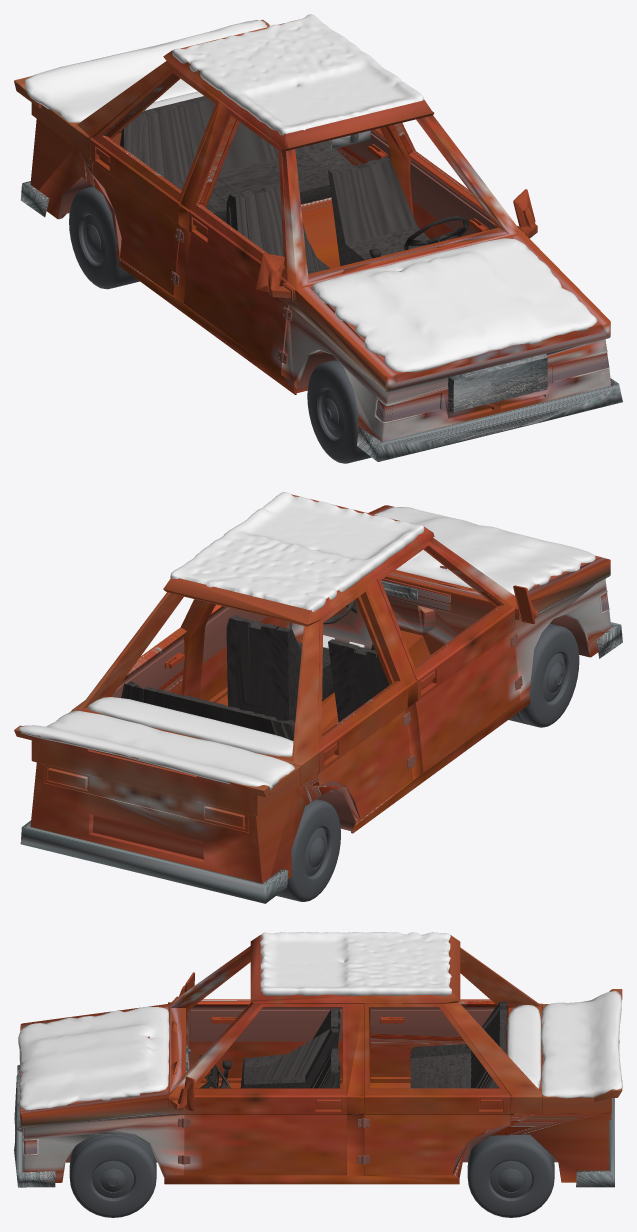
The model's file is car.fbx.
The picture shows the model from 3 angles, top to bottom: view 1: azimuth 30°, elevation 25°; view 2: azimuth 150°, elevation 25°; view 3: azimuth 270°, elevation 25°; orthographic projection. The views are drawn at different scales.
Parts seen in each view (by area): view 1: Body, SnowBall.003, Seats, SnowBall.001, Door RF, Door RB, SnowBall.004, bumper Front, Door LF, wheels Front, wheels rear, Radiator screen (+5 smaller); view 2: Body, SnowBall.001, Seats, Door RF, trunk lid, Door RB, SnowBall.004, SnowBall.003, bumper Rear, SnowBall.005, wheels Front, wheels rear (+3 smaller); view 3: Body, Door LF, SnowBall.003, Door LB, SnowBall.001, Seats, SnowBall.004, Door RF, wheels Front, wheels rear, Door RB, SnowBall.005 (+3 smaller).
Part boxes in pixels (left/top/right/bottom): Body: left=30, top=20, right=611, bottom=441; SnowBall.003: left=312, top=238, right=597, bottom=372; Seats: left=120, top=96, right=429, bottom=273; SnowBall.001: left=172, top=14, right=423, bottom=135; Door RF: left=183, top=110, right=292, bottom=374; Door RB: left=91, top=68, right=219, bottom=295; SnowBall.004: left=24, top=20, right=267, bottom=122; bumper Front: left=357, top=378, right=622, bottom=461; Door LF: left=394, top=123, right=496, bottom=239; wheels Front: left=307, top=359, right=371, bottom=463; wheels rear: left=69, top=186, right=139, bottom=289; Radiator screen: left=448, top=353, right=547, bottom=412; Body: left=30, top=494, right=611, bottom=883; SnowBall.001: left=170, top=492, right=424, bottom=611; Seats: left=121, top=615, right=389, bottom=740; Door RF: left=377, top=541, right=522, bottom=771; trunk lid: left=14, top=710, right=300, bottom=832; Door RB: left=318, top=586, right=415, bottom=818; SnowBall.004: left=18, top=710, right=294, bottom=790; SnowBall.003: left=374, top=507, right=595, bottom=595; bumper Rear: left=20, top=820, right=288, bottom=903; SnowBall.005: left=87, top=697, right=293, bottom=756; wheels Front: left=508, top=623, right=579, bottom=727; wheels rear: left=276, top=799, right=340, bottom=901; Body: left=20, top=935, right=609, bottom=1184; Door LF: left=178, top=1003, right=346, bottom=1175; SnowBall.003: left=18, top=1006, right=169, bottom=1110; Door LB: left=357, top=1003, right=510, bottom=1175; SnowBall.001: left=260, top=932, right=451, bottom=995; Seats: left=240, top=1001, right=507, bottom=1088; SnowBall.004: left=541, top=991, right=622, bottom=1098; Door RF: left=188, top=999, right=342, bottom=1078; wheels Front: left=69, top=1134, right=156, bottom=1217; wheels rear: left=467, top=1134, right=554, bottom=1217; Door RB: left=370, top=999, right=496, bottom=1076; SnowBall.005: left=507, top=1005, right=540, bottom=1088.
Bounding box in the file's own units: 182 × 160 × 412.
Materials: 8 (4 with a texture image).
